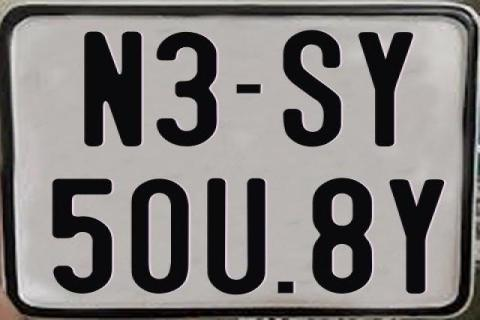0: (51, 177, 117, 295), (156, 30, 221, 146), (312, 177, 375, 295), (130, 176, 189, 295)
N: (81, 31, 141, 149)
S: (283, 29, 347, 150)
U: (205, 177, 266, 297)
Y: (358, 30, 419, 148), (386, 178, 445, 294)
